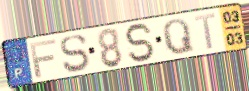8: (96, 27, 124, 70)
F: (28, 38, 58, 80)
Q: (161, 17, 197, 57)
S: (123, 22, 158, 64), (58, 33, 91, 75)
T: (193, 11, 217, 51)
